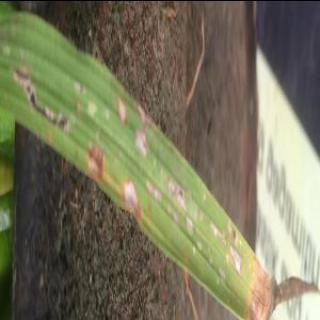Blast: (0, 55, 81, 138), (78, 138, 114, 184), (111, 86, 138, 136), (131, 127, 163, 160), (120, 180, 146, 211)
